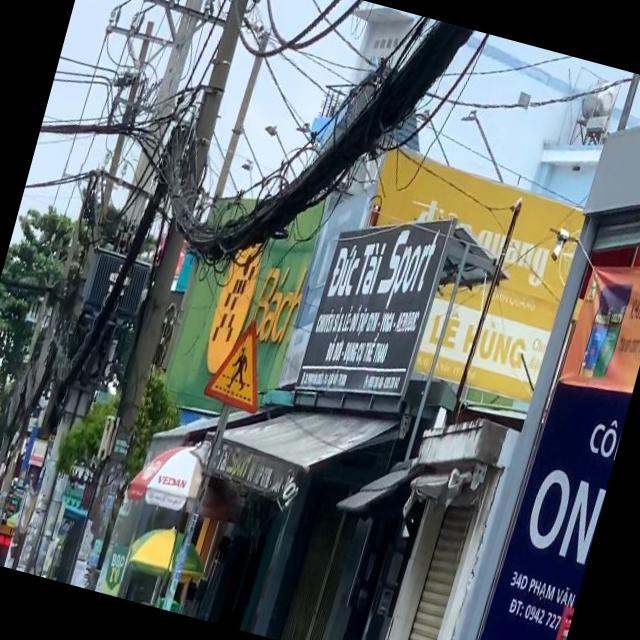W-224: (200, 306, 282, 418)
